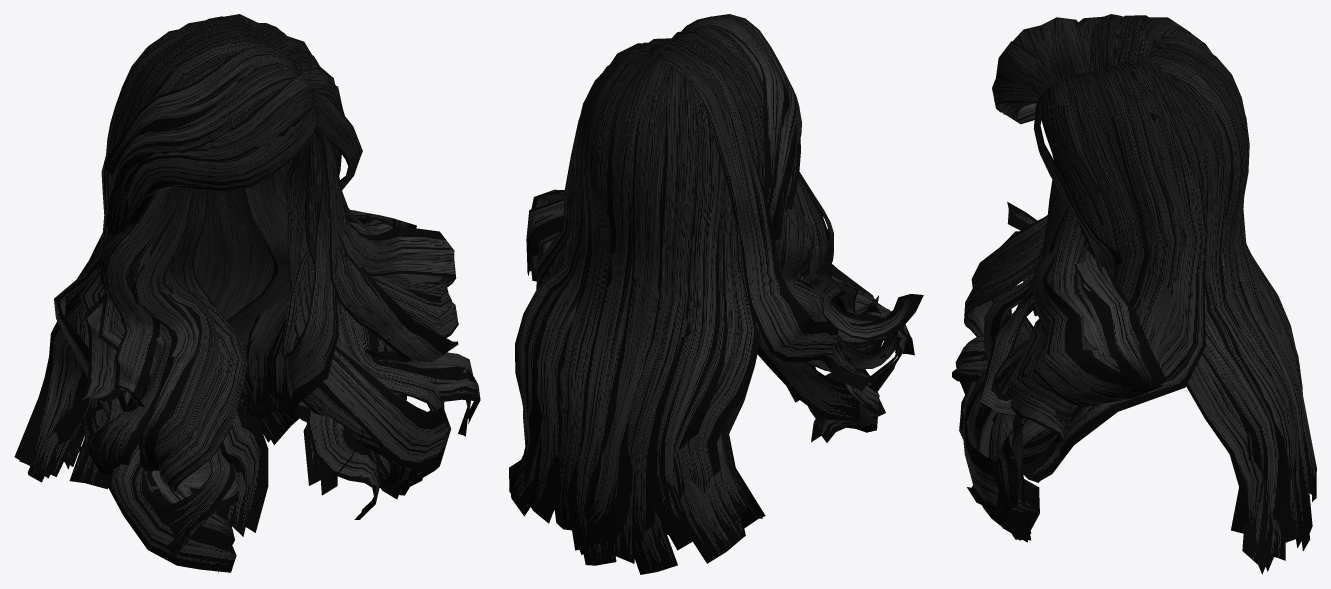
3 views of the same model, side by side, from view 1: azimuth 30°, elevation 25°; view 2: azimuth 150°, elevation 25°; view 3: azimuth 270°, elevation 25° (orthographic). The views are drawn at different scales.
Parts seen in each view (by area): view 1: avaturn_hair_1, avaturn_hair_0; view 2: avaturn_hair_1, avaturn_hair_0; view 3: avaturn_hair_1, avaturn_hair_0.
Boxes of the visible parts, x1,y1,x2,y2 form: avaturn_hair_1: (14,14,480,572); avaturn_hair_0: (19,75,472,572); avaturn_hair_1: (510,14,923,550); avaturn_hair_0: (509,25,908,574); avaturn_hair_1: (952,14,1316,571); avaturn_hair_0: (959,22,1310,574).
Size of the model in its own units: 42.77 by 53.74 by 34.27.
